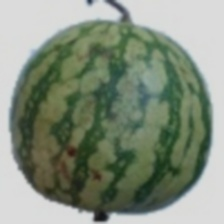watermelon: (55, 49, 211, 183)
